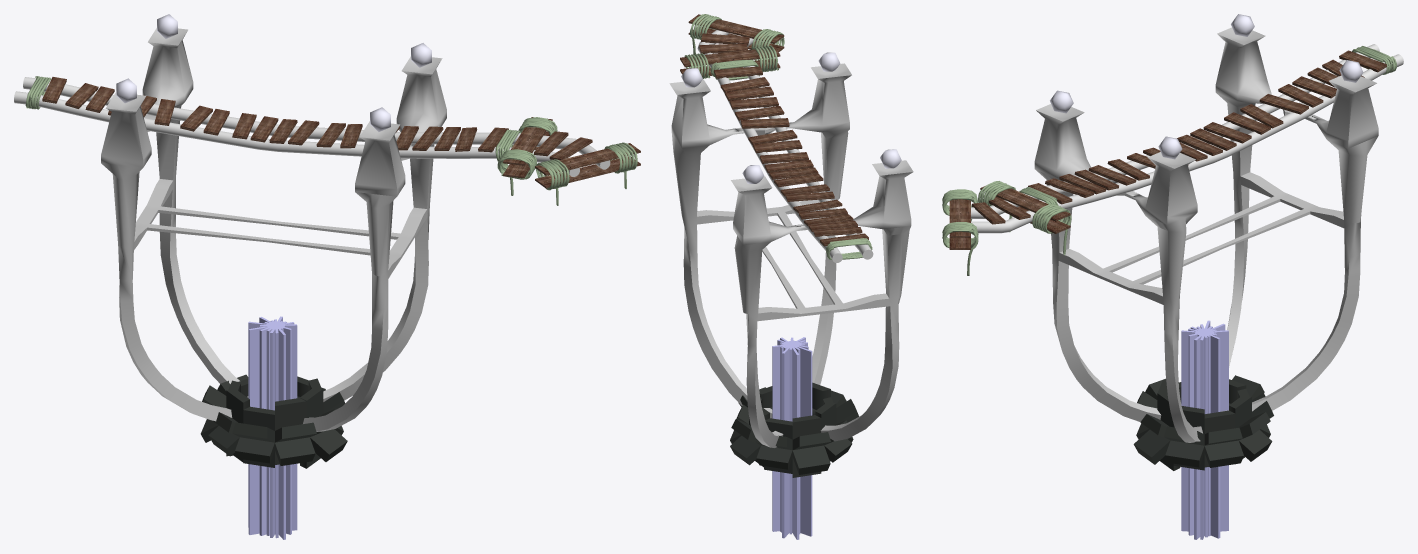
File: 1_bridge_left.fbx
3 renders of one model, left to right at view 1: azimuth 30°, elevation 25°; view 2: azimuth 150°, elevation 25°; view 3: azimuth 270°, elevation 25°, orthographic. The views are drawn at different scales.
Parts seen in each view (by area): view 1: 1_left_base, gravityring, 1_left_La, 1_left_verschlag, 1_left_La_c, 1_left_verschlag_ropes, 1_left_verschlag02_ropes, 1_left_verschlag02, 1_left_La_ropes; view 2: 1_left_base, gravityring, 1_left_La, 1_left_La_c, 1_left_verschlag02, 1_left_La_ropes, 1_left_verschlag, 1_left_verschlag_ropes, 1_left_verschlag02_ropes; view 3: 1_left_base, gravityring, 1_left_La, 1_left_La_c, 1_left_verschlag02_ropes, 1_left_verschlag_ropes, 1_left_verschlag02, 1_left_verschlag, 1_left_La_ropes.
Boxes of the visible parts, left/top/right/bottom form: 1_left_base: left=101, top=14, right=446, bottom=431; gravityring: left=200, top=316, right=347, bottom=539; 1_left_La: left=14, top=77, right=520, bottom=158; 1_left_verschlag: left=535, top=143, right=640, bottom=188; 1_left_La_c: left=532, top=131, right=610, bottom=176; 1_left_verschlag_ropes: left=536, top=142, right=637, bottom=205; 1_left_verschlag02_ropes: left=497, top=117, right=557, bottom=195; 1_left_verschlag02: left=503, top=117, right=552, bottom=178; 1_left_La_ropes: left=25, top=76, right=522, bottom=161; 1_left_base: left=669, top=52, right=913, bottom=447; gravityring: left=730, top=337, right=858, bottom=539; 1_left_La: left=710, top=64, right=873, bottom=262; 1_left_La_c: left=697, top=30, right=756, bottom=67; 1_left_verschlag02: left=680, top=47, right=780, bottom=76; 1_left_La_ropes: left=710, top=59, right=872, bottom=259; 1_left_verschlag: left=688, top=14, right=784, bottom=51; 1_left_verschlag_ropes: left=690, top=14, right=784, bottom=60; 1_left_verschlag02_ropes: left=684, top=45, right=778, bottom=78; 1_left_base: left=1034, top=14, right=1378, bottom=442; gravityring: left=1133, top=320, right=1273, bottom=539; 1_left_La: left=1017, top=44, right=1403, bottom=209; 1_left_La_c: left=971, top=198, right=1039, bottom=233; 1_left_verschlag02_ropes: left=978, top=181, right=1071, bottom=255; 1_left_verschlag_ropes: left=942, top=189, right=978, bottom=275; 1_left_verschlag02: left=980, top=186, right=1070, bottom=233; 1_left_verschlag: left=949, top=199, right=970, bottom=249; 1_left_La_ropes: left=1019, top=46, right=1396, bottom=205.
Bounding box in the file's own units: 108 × 117 × 108.
Materials: 7 (1 with a texture image).
